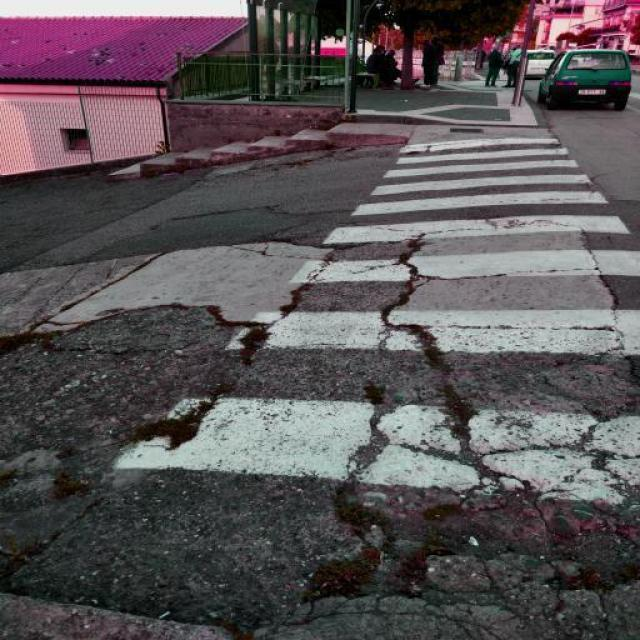crosswalk: (110, 134, 640, 508)
